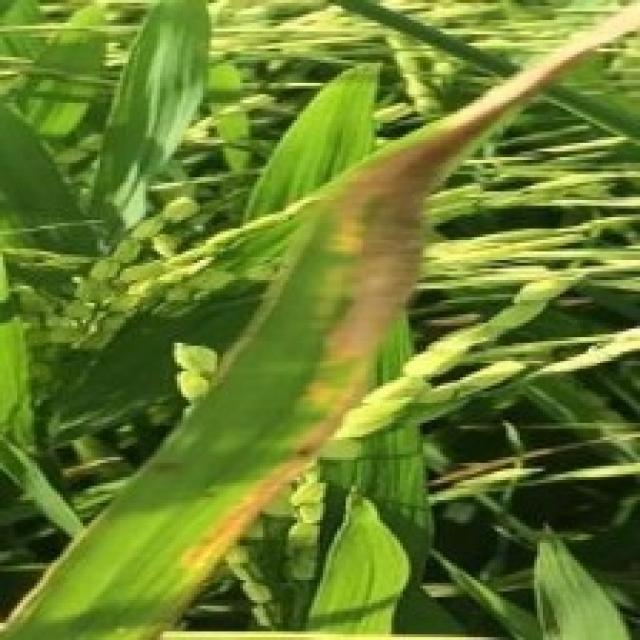Rice___Bacterial_Leaf_Blight: (0, 1, 637, 638)
